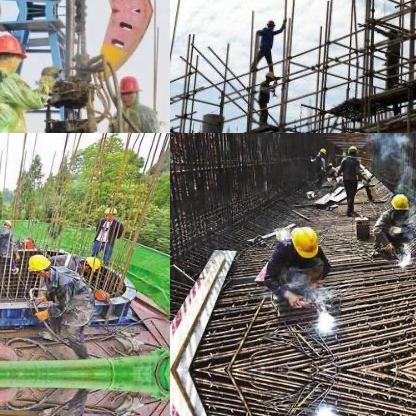Helmet: (0, 25, 28, 80), (289, 222, 319, 256), (118, 72, 140, 106), (25, 252, 50, 276), (386, 190, 410, 214), (78, 252, 102, 272), (102, 204, 116, 218), (345, 142, 357, 156), (2, 214, 12, 228), (265, 17, 275, 29), (263, 68, 273, 80)
